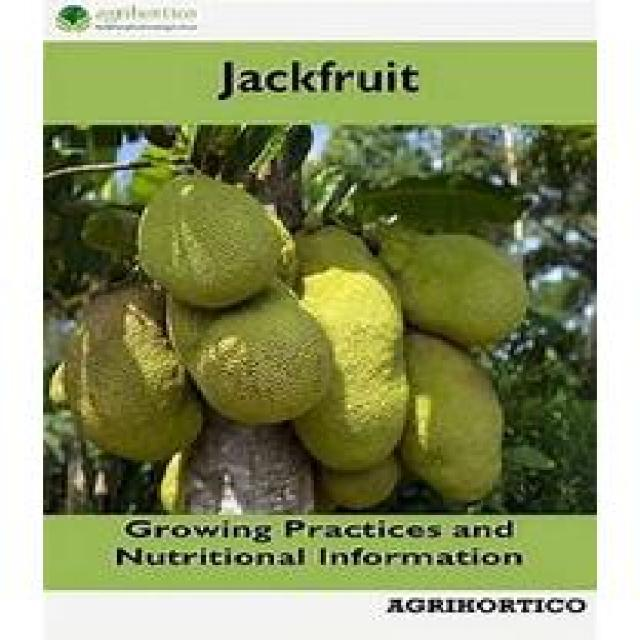Fruit: (160, 250, 351, 445), (123, 155, 311, 315)
